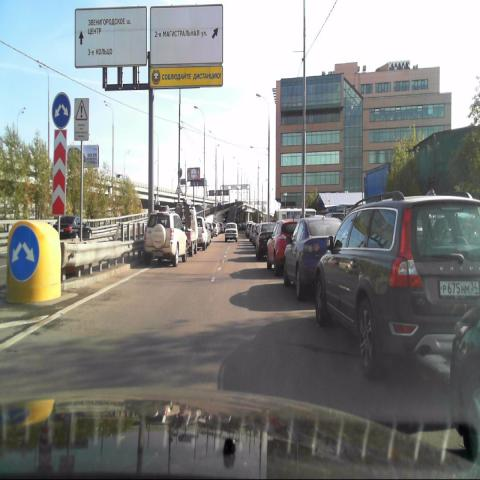4_2_3: (10, 223, 38, 283)
